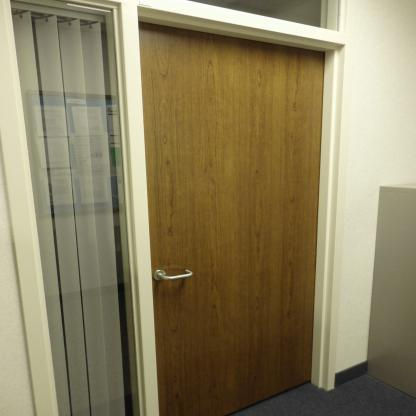door: (139, 20, 312, 415)
lever: (158, 270, 193, 286)
